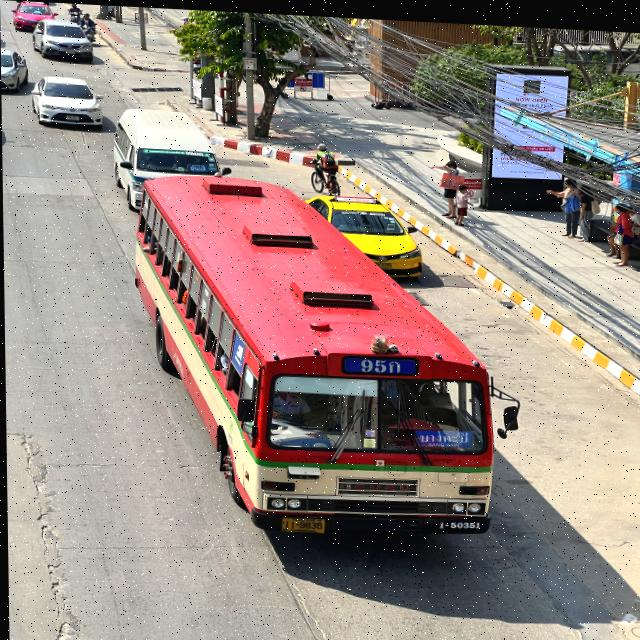BMTA-bus: (129, 171, 494, 532)
Bus Line Number: (339, 352, 419, 374)
Bus Side Number: (433, 515, 484, 526)
Destination Sign: (414, 422, 472, 445)
